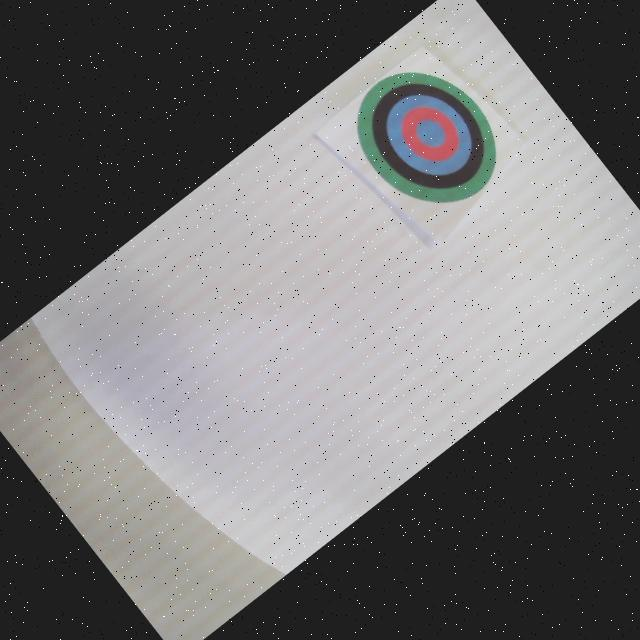COGNITIVE: (333, 40, 521, 234)
